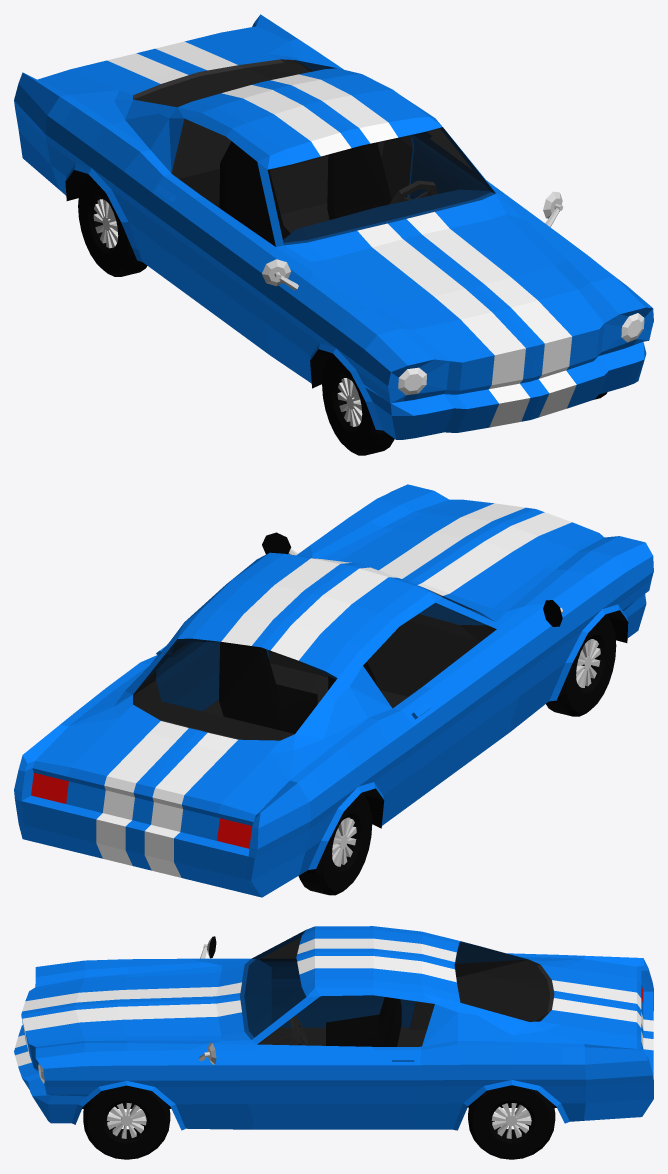
Rendered from vehicle2-blue.fbx.
The picture shows the model from 3 angles, top to bottom: view 1: azimuth 30°, elevation 25°; view 2: azimuth 150°, elevation 25°; view 3: azimuth 270°, elevation 25°; orthographic projection. The views are drawn at different scales.
Visible parts, largest first — view 1: Body, DoorR, Windshield, Seats, RearWindow, WheelFR, WheelBR, DoorL; view 2: Body, DoorR, RearWindow, Seats, WheelBR, WheelFR, DoorL; view 3: Body, DoorL, RearWindow, WheelBL, WheelFL, Windshield, DoorR, Seats, SteeringWheel.
Boxes of the visible parts, box(x1,y1,x2,y2) form: Body: box(14, 14, 653, 439); DoorR: box(151, 118, 275, 342); Windshield: box(267, 127, 495, 245); Seats: box(219, 142, 391, 246); RearWindow: box(133, 59, 336, 107); WheelFR: box(322, 353, 394, 455); WheelBR: box(78, 174, 147, 276); DoorL: box(409, 128, 507, 198); Body: box(14, 484, 653, 897); DoorR: box(363, 602, 524, 793); RearWindow: box(133, 638, 337, 740); Seats: box(219, 642, 376, 733); WheelBR: box(298, 792, 372, 895); WheelFR: box(546, 614, 616, 716); DoorL: box(156, 642, 268, 710); Body: box(14, 926, 653, 1130); DoorL: box(247, 995, 434, 1121); RearWindow: box(454, 941, 554, 1021); WheelBL: box(468, 1085, 555, 1159); WheelFL: box(83, 1085, 170, 1159); Windshield: box(240, 930, 306, 1039); DoorR: box(259, 938, 414, 1027); Seats: box(326, 997, 401, 1046); SteeringWheel: box(266, 1015, 307, 1045).
Size of the model in its own units: 199 by 130 by 465.
